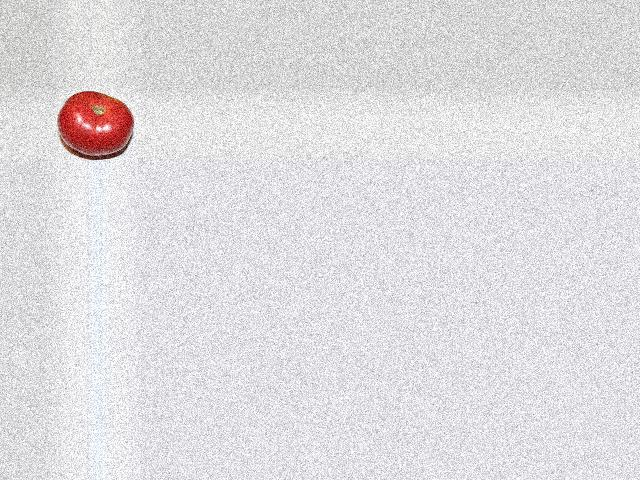tomato: (56, 90, 134, 154)
